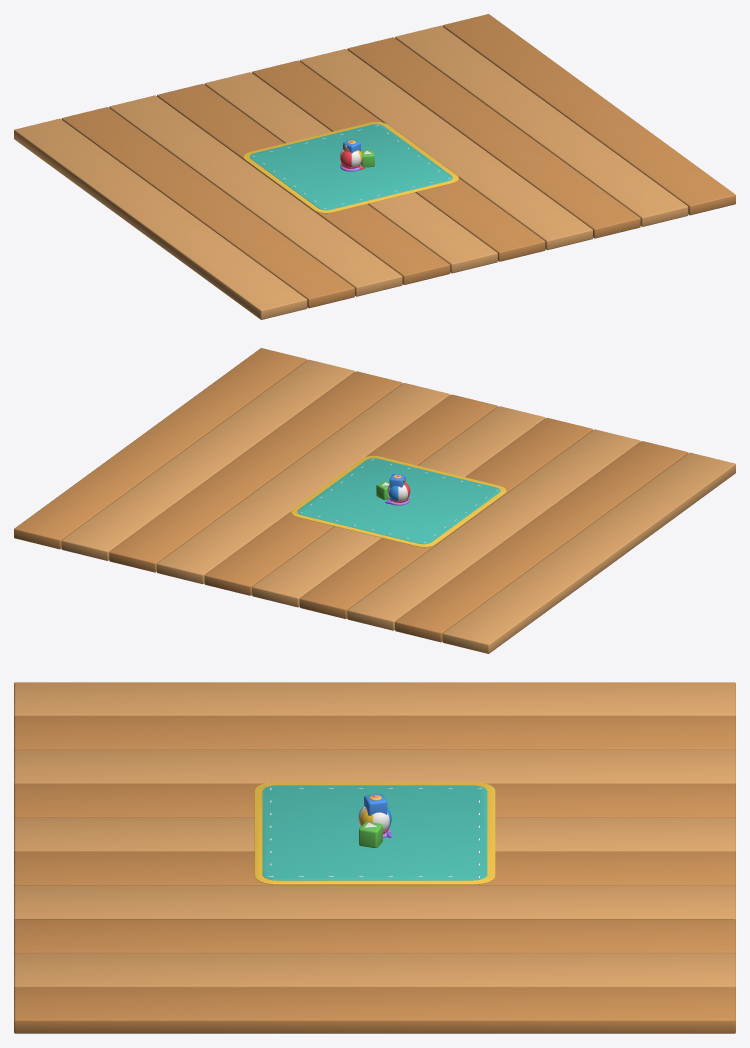
File: setting.glb
The picture shows the model from 3 angles, top to bottom: view 1: azimuth 30°, elevation 25°; view 2: azimuth 150°, elevation 25°; view 3: azimuth 270°, elevation 25°; orthographic projection. The views are drawn at different scales.
Visible parts, largest first — view 1: table, mat; view 2: table, mat; view 3: table, mat, prop_blocks.
Boxes of the visible parts, left/top/right/bottom form: table: left=14, top=14, right=735, bottom=319; mat: left=243, top=122, right=458, bottom=213; table: left=14, top=348, right=735, bottom=653; mat: left=291, top=456, right=506, bottom=547; table: left=14, top=682, right=735, bottom=1033; mat: left=254, top=782, right=495, bottom=884; prop_blocks: left=359, top=794, right=387, bottom=847.
Bounding box in the file's own units: 19.96 × 1.45 × 18.
